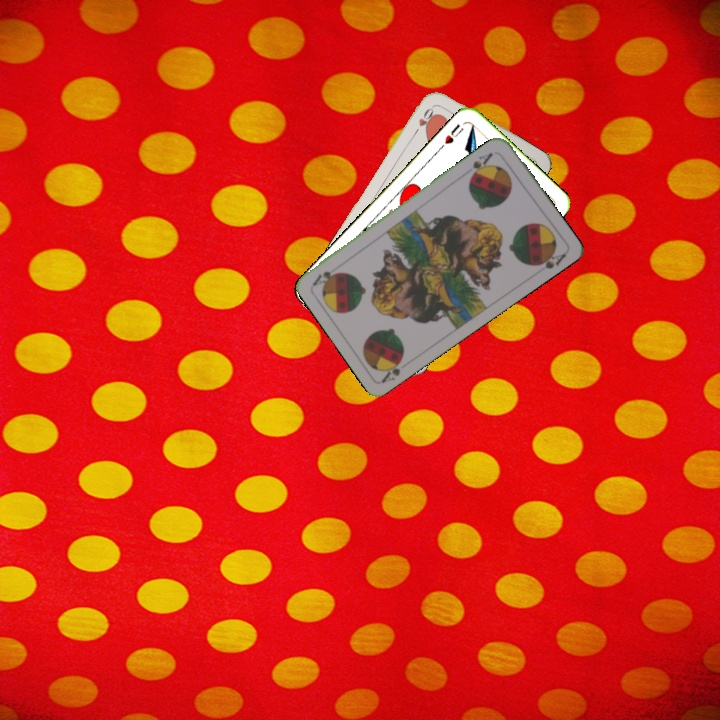HO: (410, 101, 438, 137)
HU: (440, 120, 466, 147)
SA: (466, 148, 496, 181), (378, 353, 406, 386)
